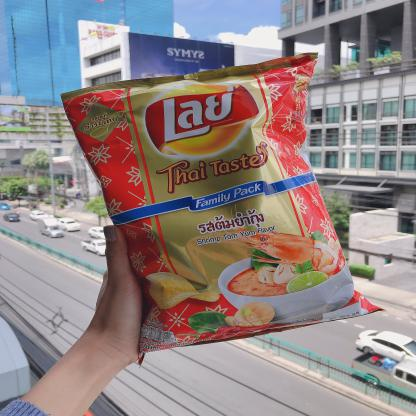potatochip: (61, 53, 385, 365)
